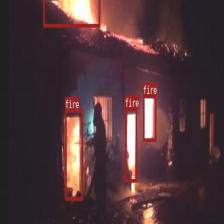fire: (65, 108, 83, 200), (43, 0, 99, 26), (124, 107, 136, 182), (143, 95, 156, 141)
